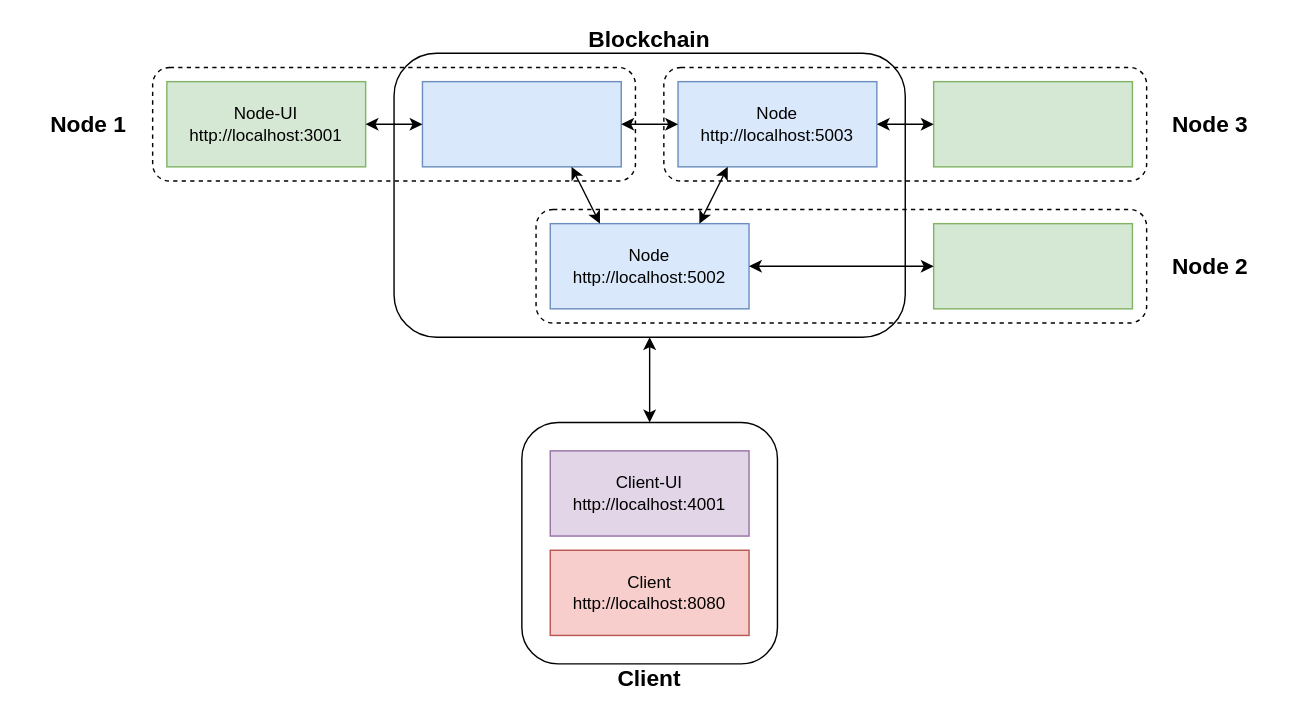
Some shapes in this 1298 by 716 pixel diagram are drawn without their labels. Here are the shapes that lost their labels. From the top down, the centre of each, then its label:
At (x=521, y=123): "Node http://localhost:5001".
At (x=1032, y=123): "Node-UI http://localhost:3003".
At (x=1032, y=265): "Node-UI http://localhost:3002".
